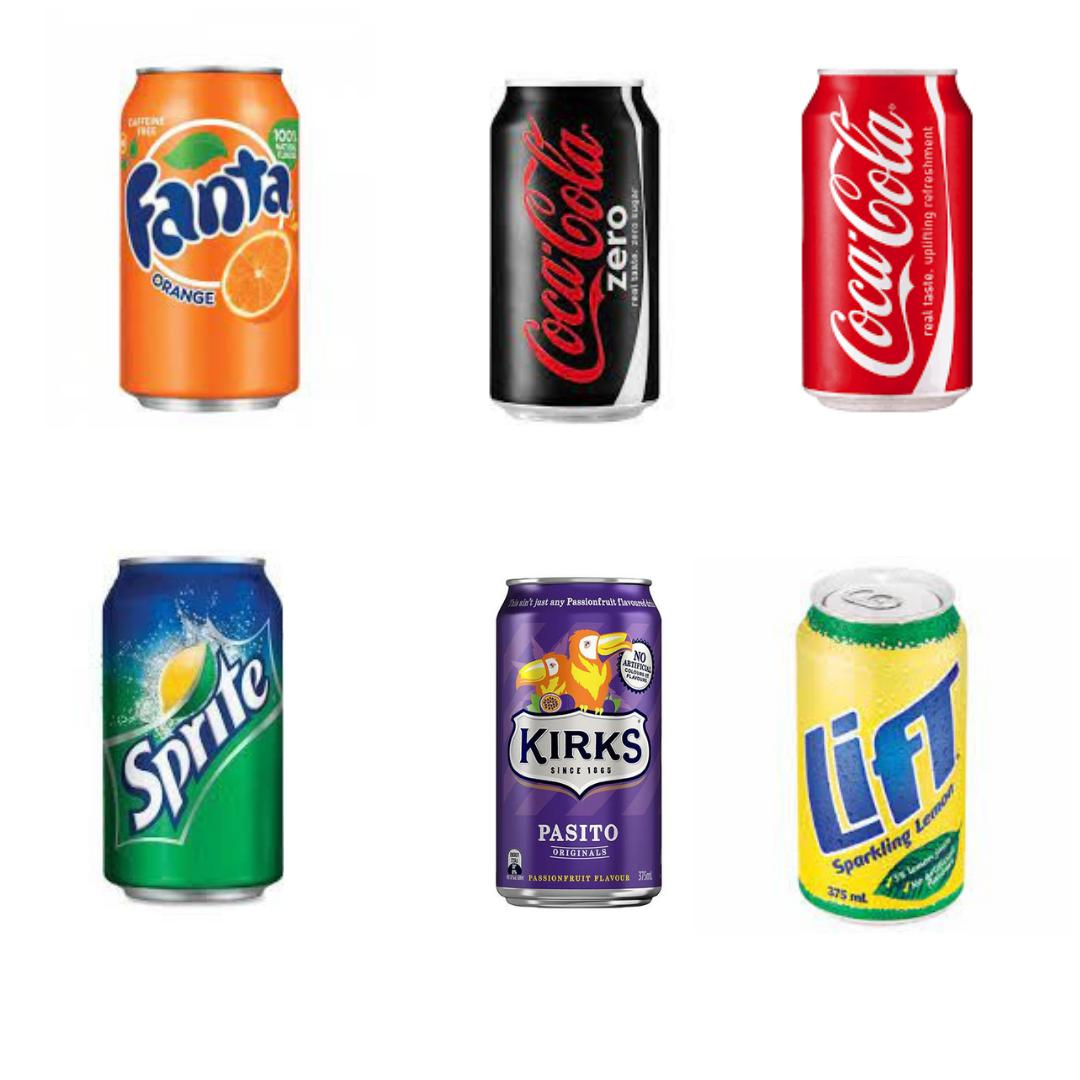cylinder: (118, 65, 299, 412), (101, 555, 282, 901), (795, 567, 967, 925), (801, 68, 972, 411), (489, 78, 659, 422), (495, 576, 661, 908)
